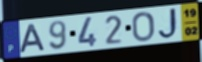2: (104, 14, 124, 46)
4: (77, 15, 100, 48)
9: (48, 20, 68, 52)
A: (19, 23, 47, 55)
J: (157, 7, 181, 42)
O: (131, 10, 156, 43)
